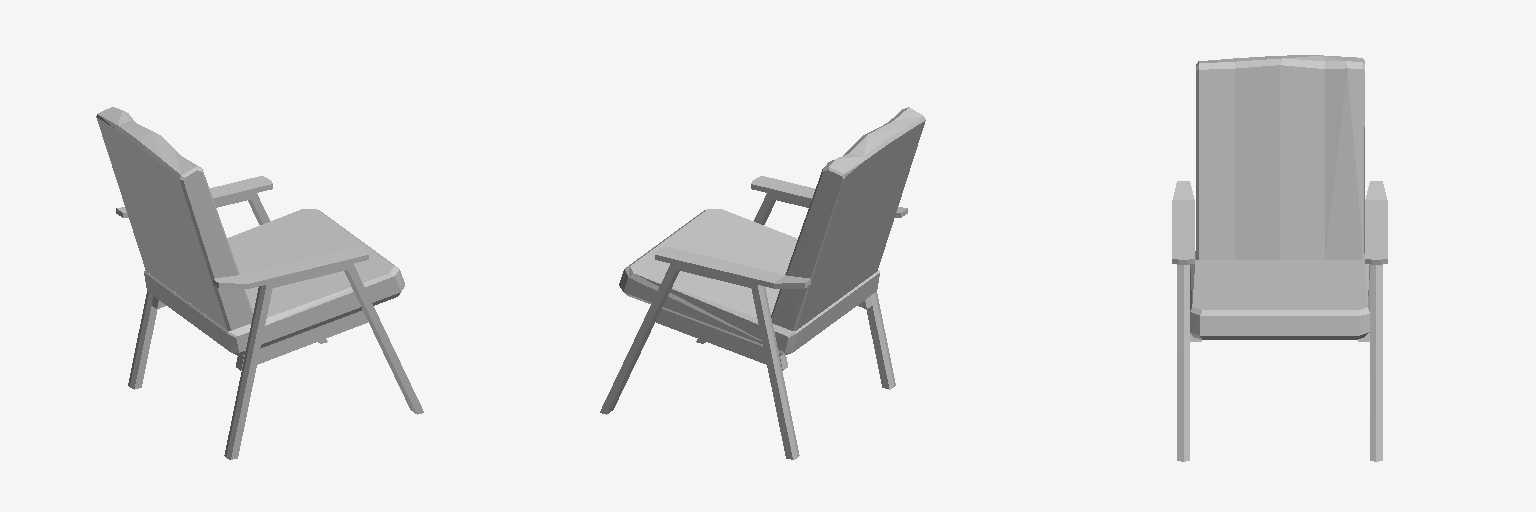
File: Armchair01a.obj
3 views of the same model, side by side, from view 1: azimuth 30°, elevation 25°; view 2: azimuth 150°, elevation 25°; view 3: azimuth 270°, elevation 25° (orthographic).
Visible parts, largest first — view 1: Armchair01a_LOD0_Cube.004; view 2: Armchair01a_LOD0_Cube.004; view 3: Armchair01a_LOD0_Cube.004.
Boxes of the visible parts, <box> form: Armchair01a_LOD0_Cube.004: <box>96,107,423,459</box>; Armchair01a_LOD0_Cube.004: <box>600,107,925,459</box>; Armchair01a_LOD0_Cube.004: <box>1172,55,1387,461</box>.
Size of the model in its own units: 0.9156 by 1.09 by 0.7178.